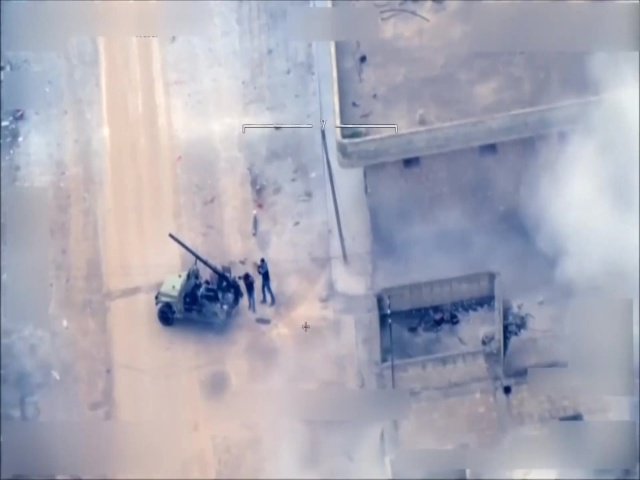person: (255, 256, 277, 305), (237, 268, 256, 315)
vehicle: (155, 266, 240, 328)
